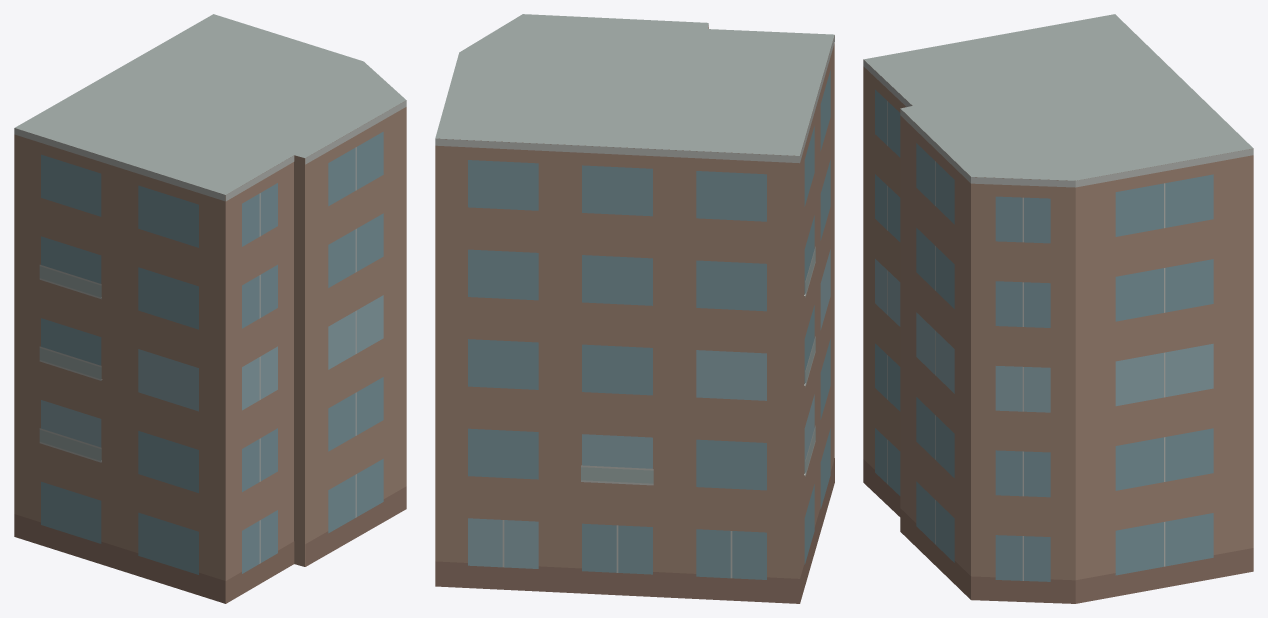
Rendered from survey-upis-32722375.glb.
3 renders of one model, left to right at view 1: azimuth 30°, elevation 25°; view 2: azimuth 150°, elevation 25°; view 3: azimuth 270°, elevation 25°, orthographic. The views are drawn at different scales.
Parts seen in each view (by area): view 1: survey-upis-32722375.tmp; view 2: survey-upis-32722375.tmp; view 3: survey-upis-32722375.tmp.
Part boxes in pixels (x1,y1,x2,y2): survey-upis-32722375.tmp: (14,14,406,603); survey-upis-32722375.tmp: (435,14,834,603); survey-upis-32722375.tmp: (863,14,1253,603).
Size of the model in its own units: 12.9 by 15.25 by 12.75.
